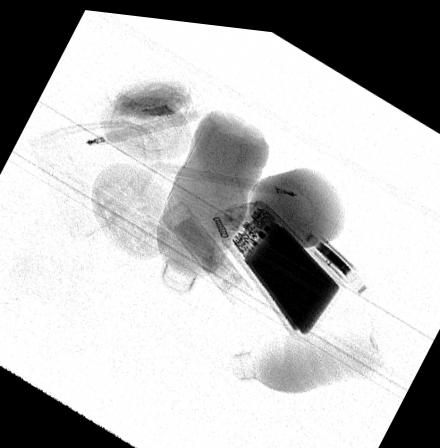Powerbank: (229, 194, 344, 330)
